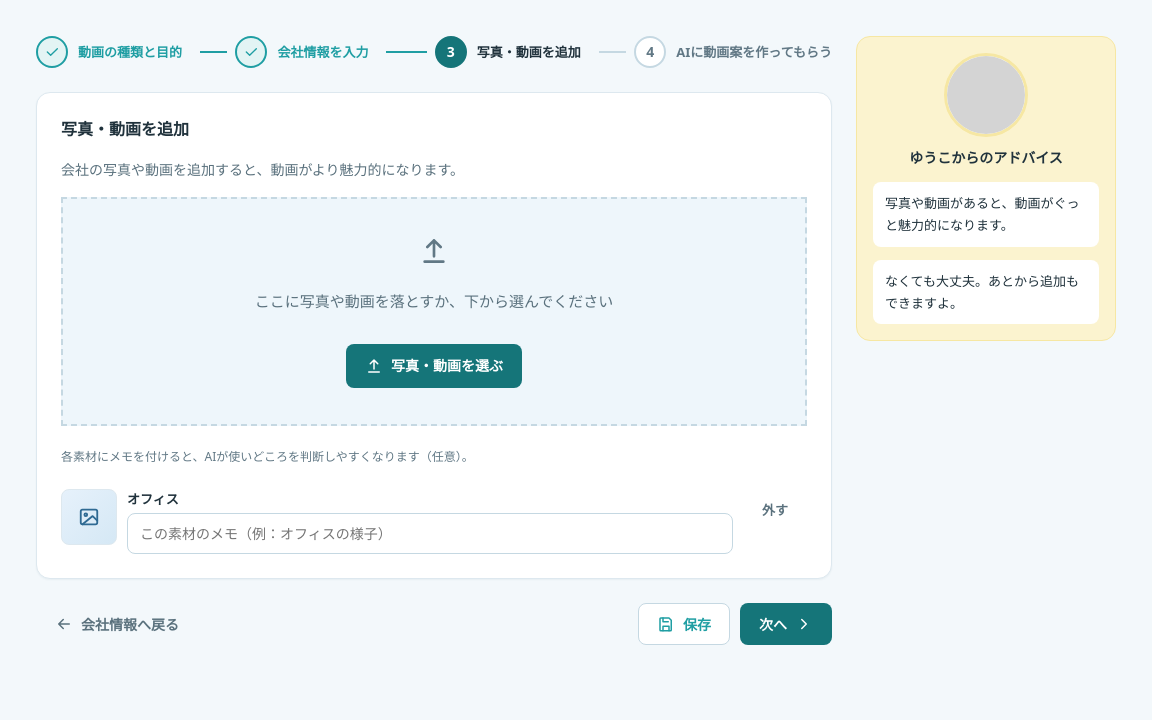
WizardScreen 素材の外す（#547 P3-8） › 最後の1つを外すと「まだ素材はありません」に戻る（空状態の案内）
The width and height of the screenshot is (1152, 720).
What coordinates should you click on to do the following:
click the button with aria-label "オフィスを外す"
I would click on:
 (775, 509)
Its box is [743,489,807,530].
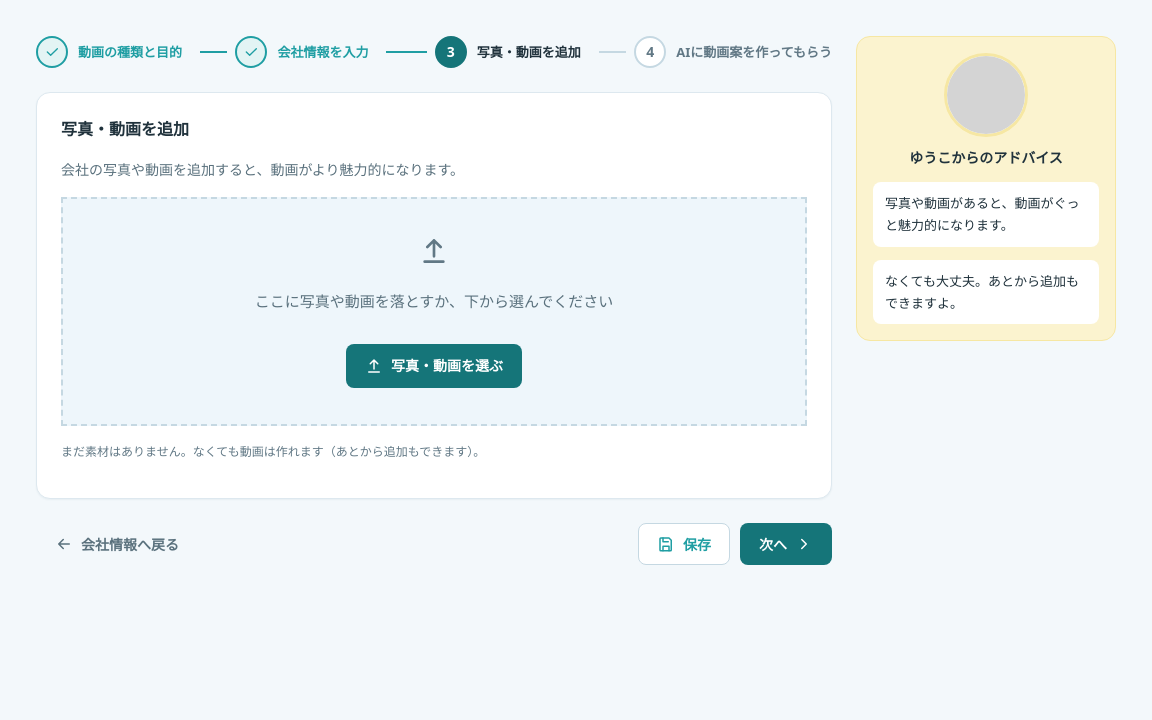
Expected: the text "まだ素材はありません。なくても動画は作れます（あとから追加もできます）。" is shown, [61,443,485,460]
